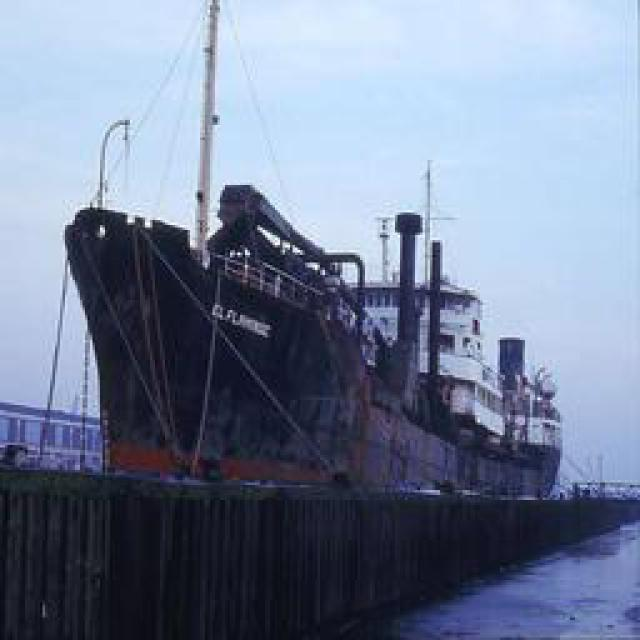Ship: (55, 3, 503, 498)
